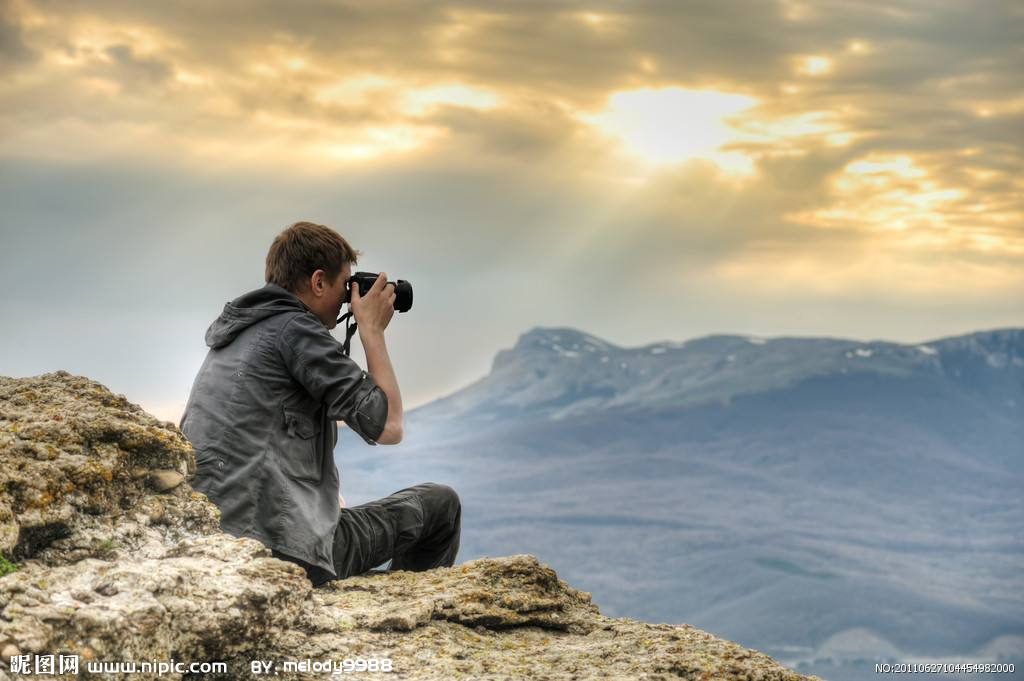person: (186, 202, 517, 645)
